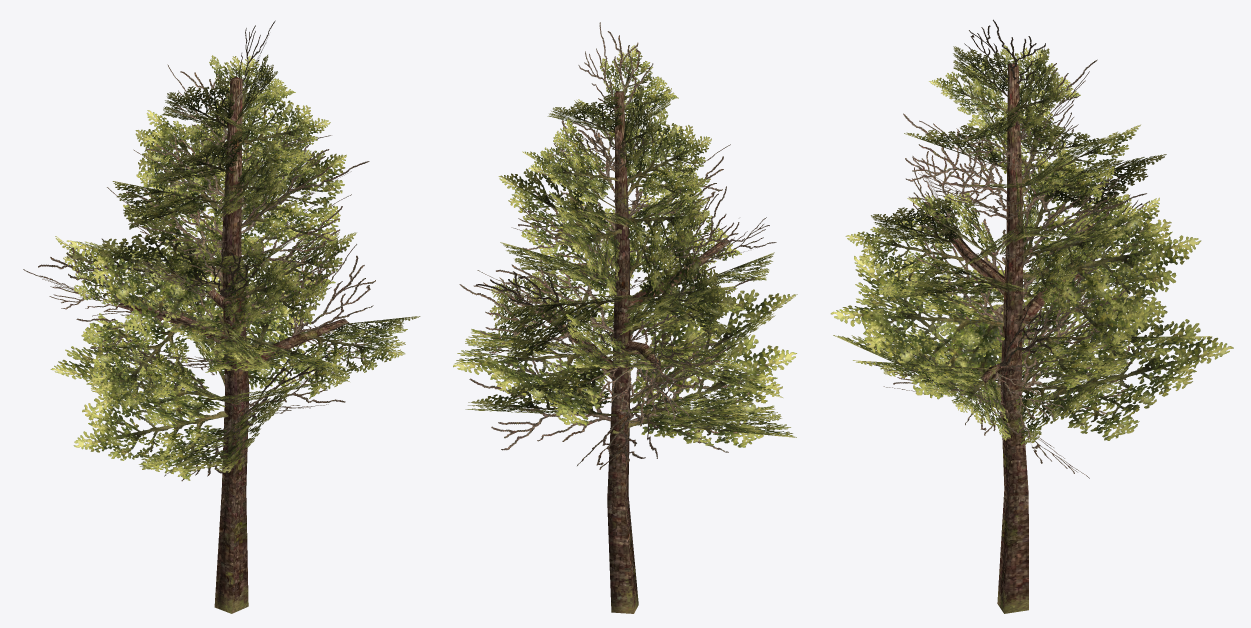
The model's file is OZ_00_hd_tree01B.glb.
The picture shows the model from 3 angles, left to right: view 1: azimuth 30°, elevation 25°; view 2: azimuth 150°, elevation 25°; view 3: azimuth 270°, elevation 25°; orthographic projection. The views are drawn at different scales.
Visible parts, largest first — view 1: OM_00_hd_tree01B; view 2: OM_00_hd_tree01B; view 3: OM_00_hd_tree01B.
Boxes of the visible parts, x1,y1,x2,y2 form: OM_00_hd_tree01B: (23,20,420,613); OM_00_hd_tree01B: (453,22,797,613); OM_00_hd_tree01B: (830,19,1233,613).
Size of the model in its own units: 7.32 by 12.44 by 7.53.
2 materials, 2 textured.
